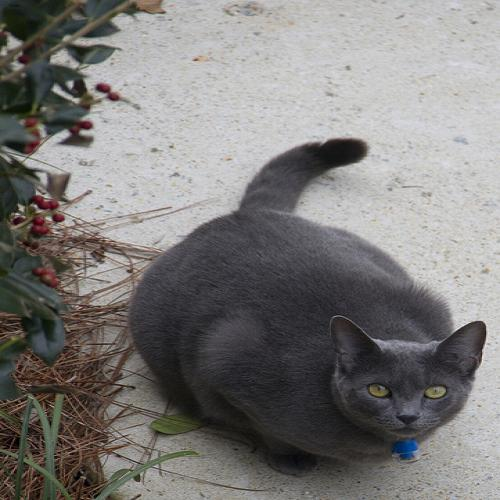rblue: (322, 311, 500, 445)
